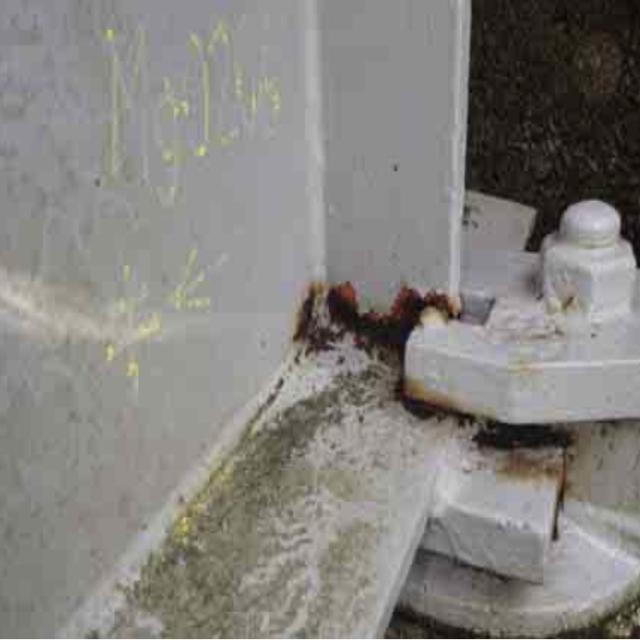corrosion: (300, 244, 553, 480)
